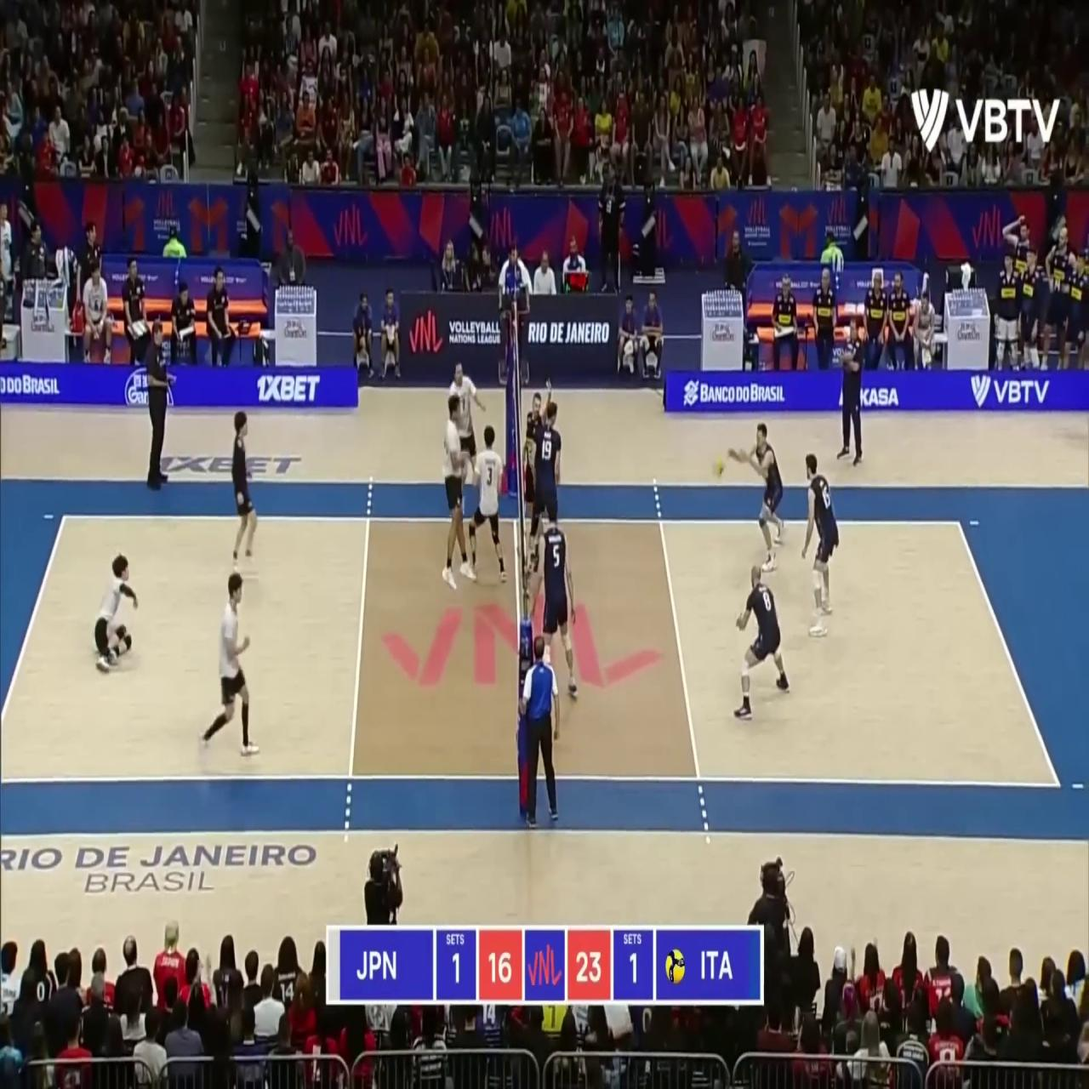ball: (712, 456, 725, 478)
